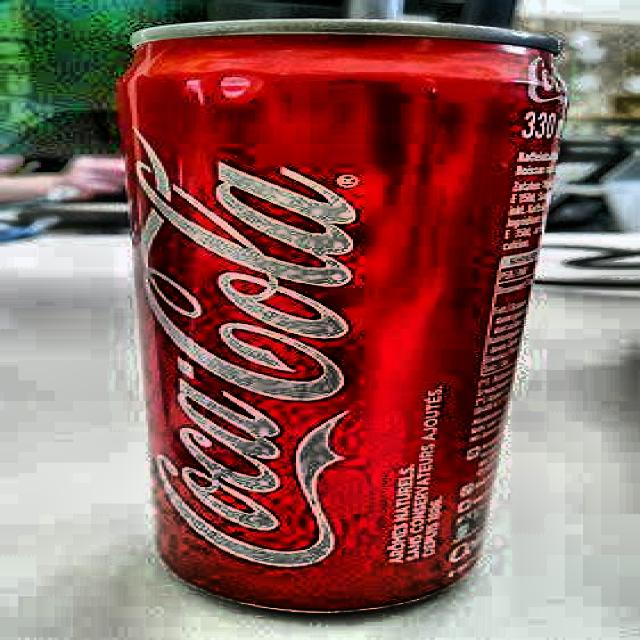Cans: (109, 11, 582, 633)
